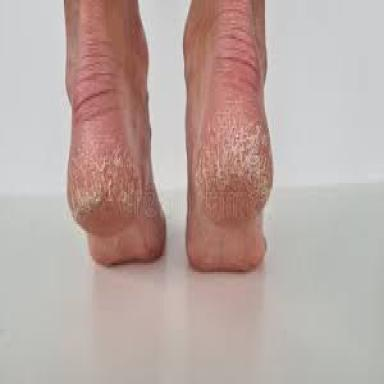eczema: (193, 110, 272, 200), (67, 135, 140, 220)
